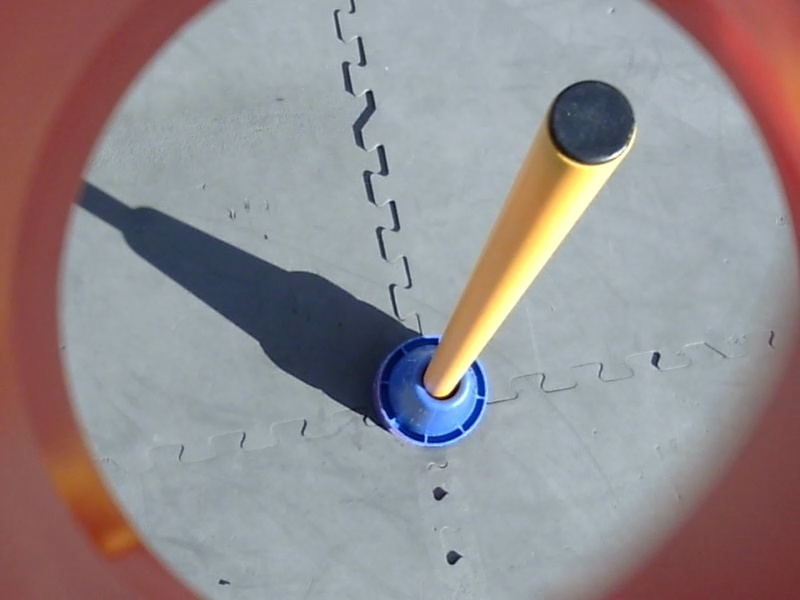tip: (541, 74, 644, 172)
